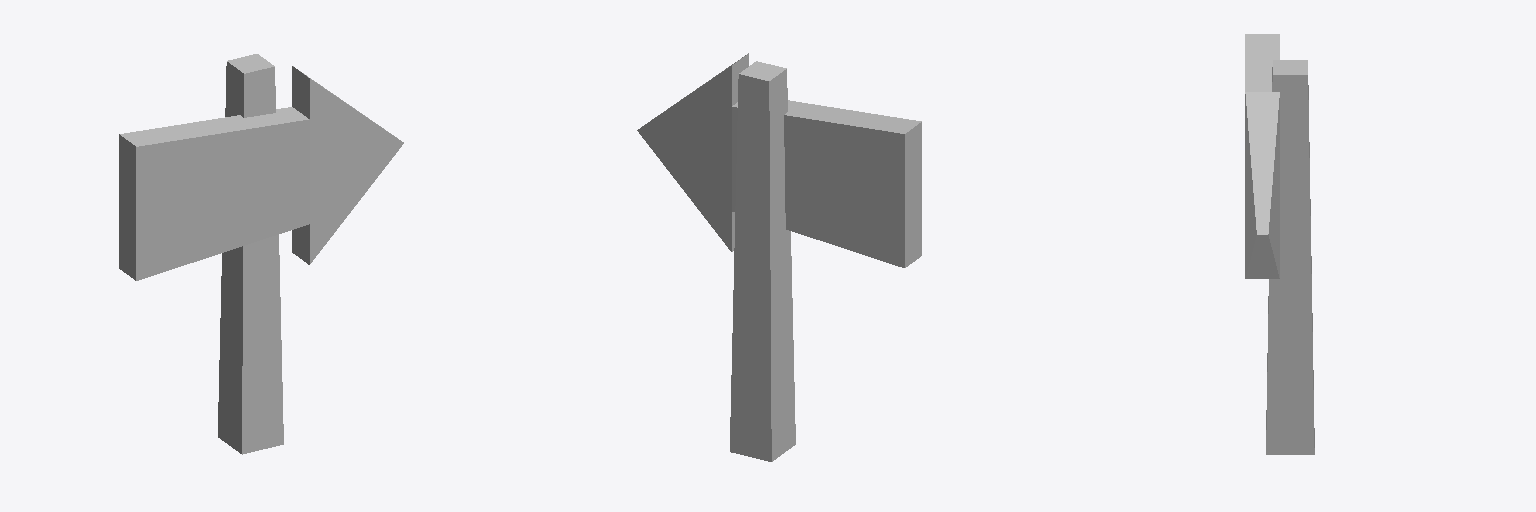
The model's file is arrow.obj.
3 renders of one model, left to right at view 1: azimuth 30°, elevation 25°; view 2: azimuth 150°, elevation 25°; view 3: azimuth 270°, elevation 25°, orthographic.
Parts seen in each view (by area): view 1: mesh_0, mesh_1; view 2: mesh_0, mesh_1; view 3: mesh_1, mesh_0.
Part boxes in pixels (left/top/right/bottom): mesh_0: left=119, top=66, right=403, bottom=280; mesh_1: left=218, top=54, right=283, bottom=454; mesh_0: left=637, top=53, right=921, bottom=267; mesh_1: left=730, top=61, right=795, bottom=461; mesh_1: left=1266, top=60, right=1314, bottom=454; mesh_0: left=1245, top=34, right=1279, bottom=278.
Size of the model in its own units: 1.38 by 1.82 by 0.3024.